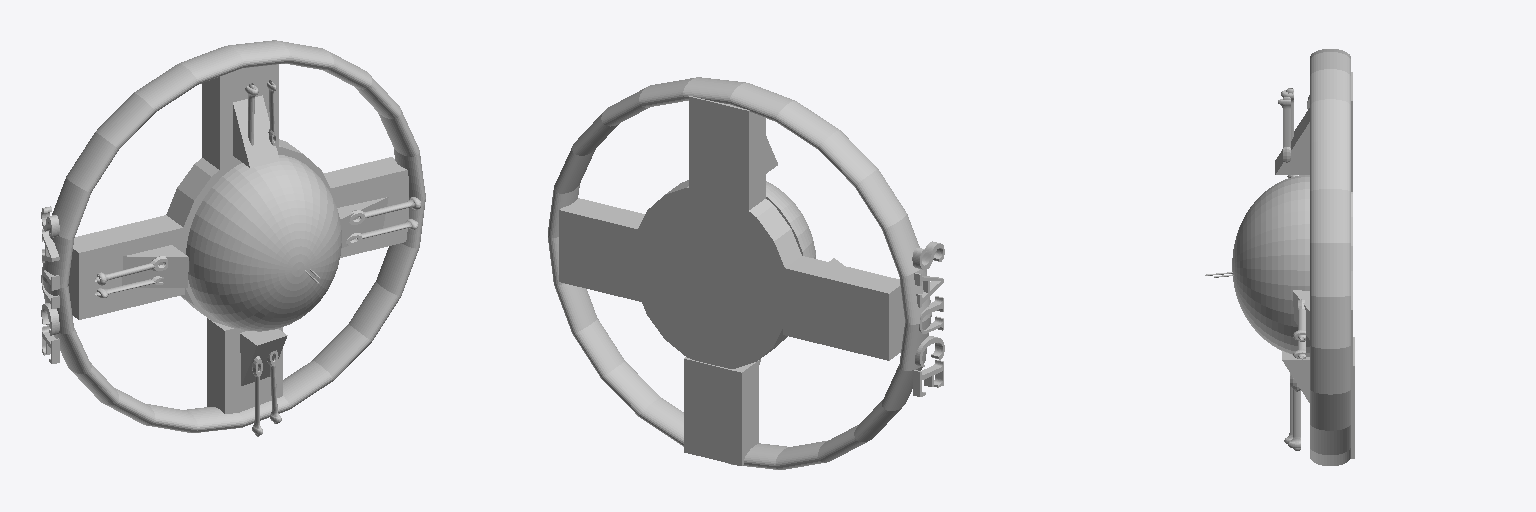
File: StationSauce.obj
3 views of the same model, side by side, from view 1: azimuth 30°, elevation 25°; view 2: azimuth 150°, elevation 25°; view 3: azimuth 270°, elevation 25° (orthographic).
Visible parts, largest first — view 1: obj_0; view 2: obj_0; view 3: obj_0.
Part boxes in pixels (x1,y1,x2,y2): obj_0: (41, 40, 425, 436); obj_0: (548, 77, 944, 469); obj_0: (1205, 49, 1354, 465).
Size of the model in its own units: 255 by 241 by 86.53.